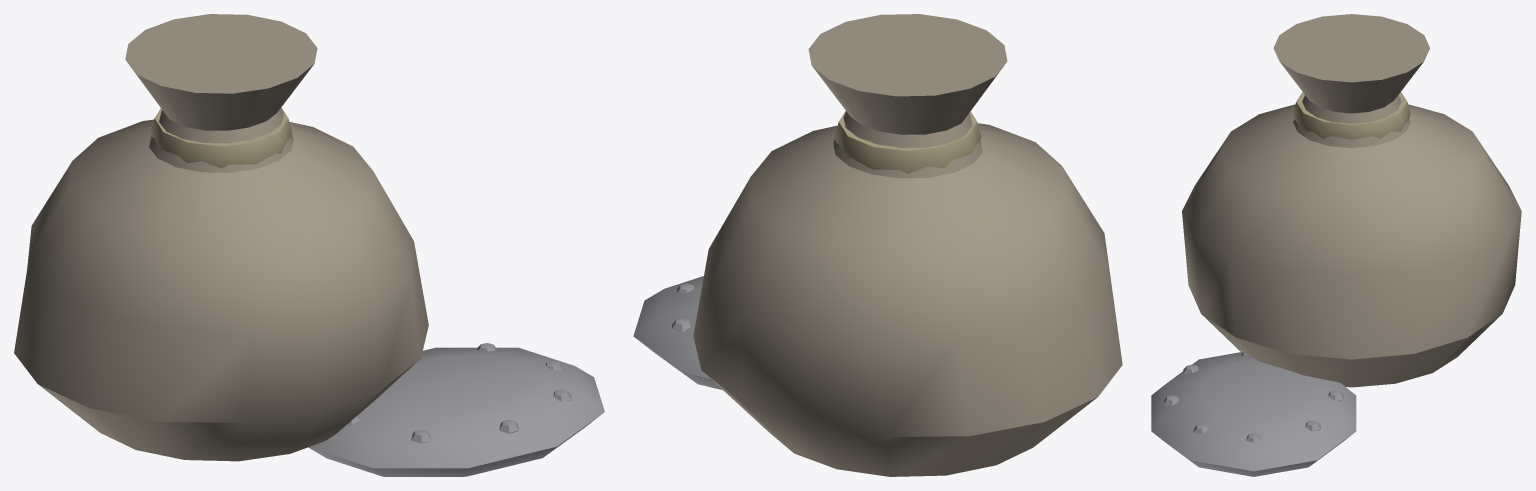
Rendered from grave_dust.glb.
3 views of the same model, side by side, from view 1: azimuth 30°, elevation 25°; view 2: azimuth 150°, elevation 25°; view 3: azimuth 270°, elevation 25° (orthographic). The views are drawn at different scales.
Visible parts, largest first — view 1: grave_dust; view 2: grave_dust; view 3: grave_dust.
Part boxes in pixels (bbox=[...]): grave_dust: bbox=[14, 14, 604, 476]; grave_dust: bbox=[633, 14, 1122, 476]; grave_dust: bbox=[1151, 14, 1521, 476].
Bounding box in the file's own units: 0.1459 × 0.109 × 0.1134.
